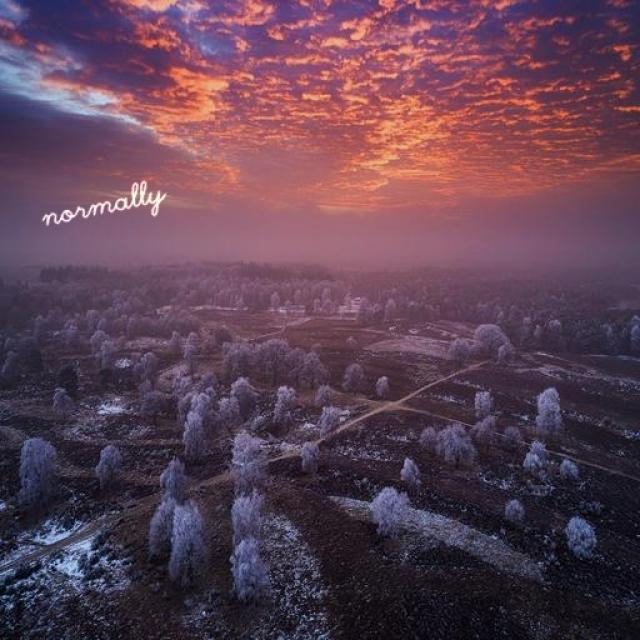watermark: (35, 174, 166, 231)
